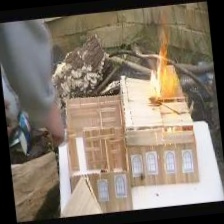fire: (135, 10, 195, 105)
